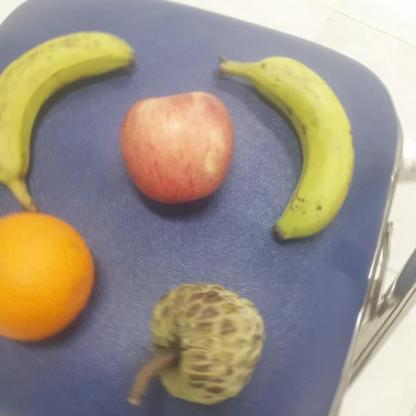annona: (132, 279, 270, 410)
apple: (118, 84, 238, 210)
banana: (234, 47, 362, 243), (0, 28, 131, 200)
orange: (0, 209, 96, 344)
